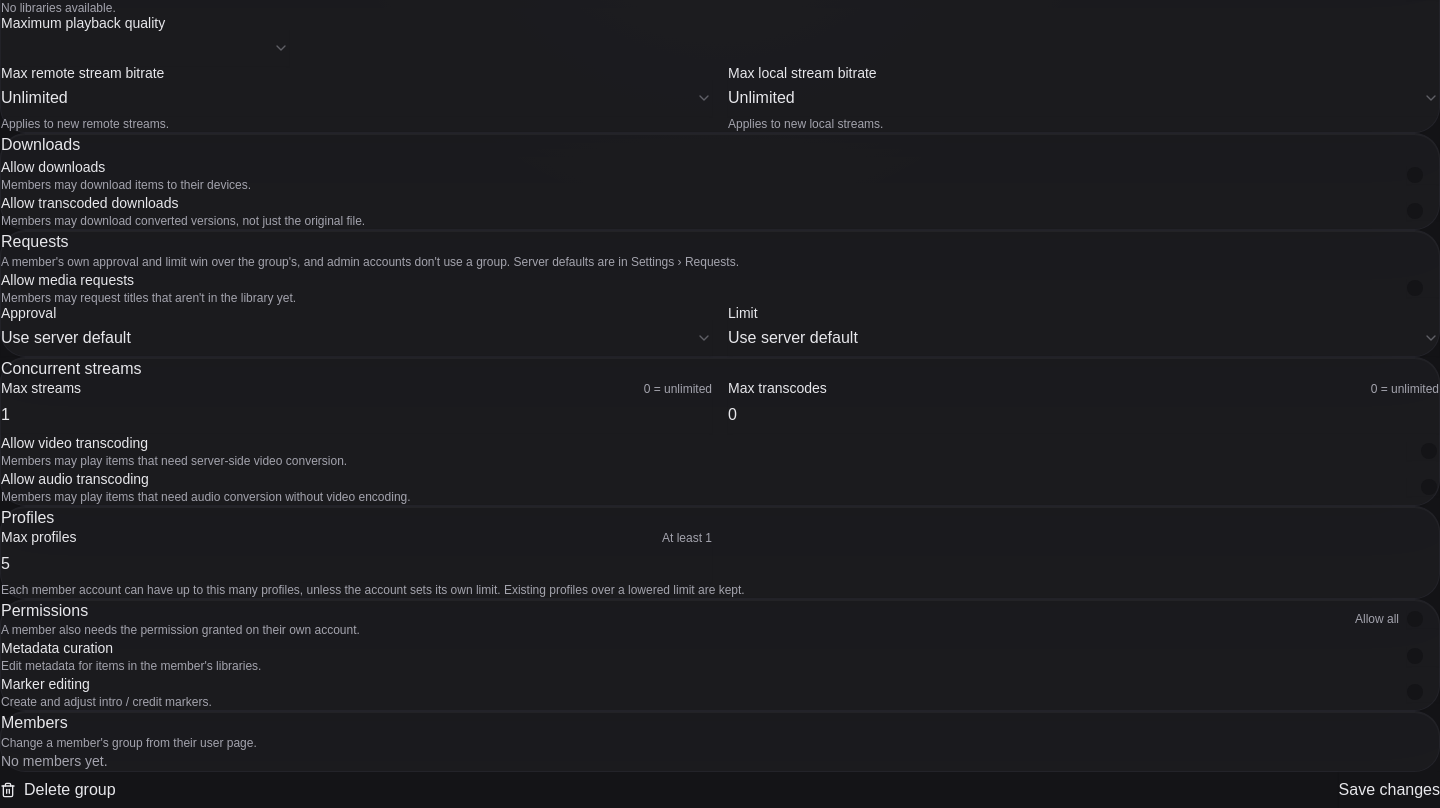
Test: AdminAccessGroups › keeps the move warning when the cached member count is zero
(page scrolled)
Click the button "Delete group": (58, 790) [0,772,116,807]
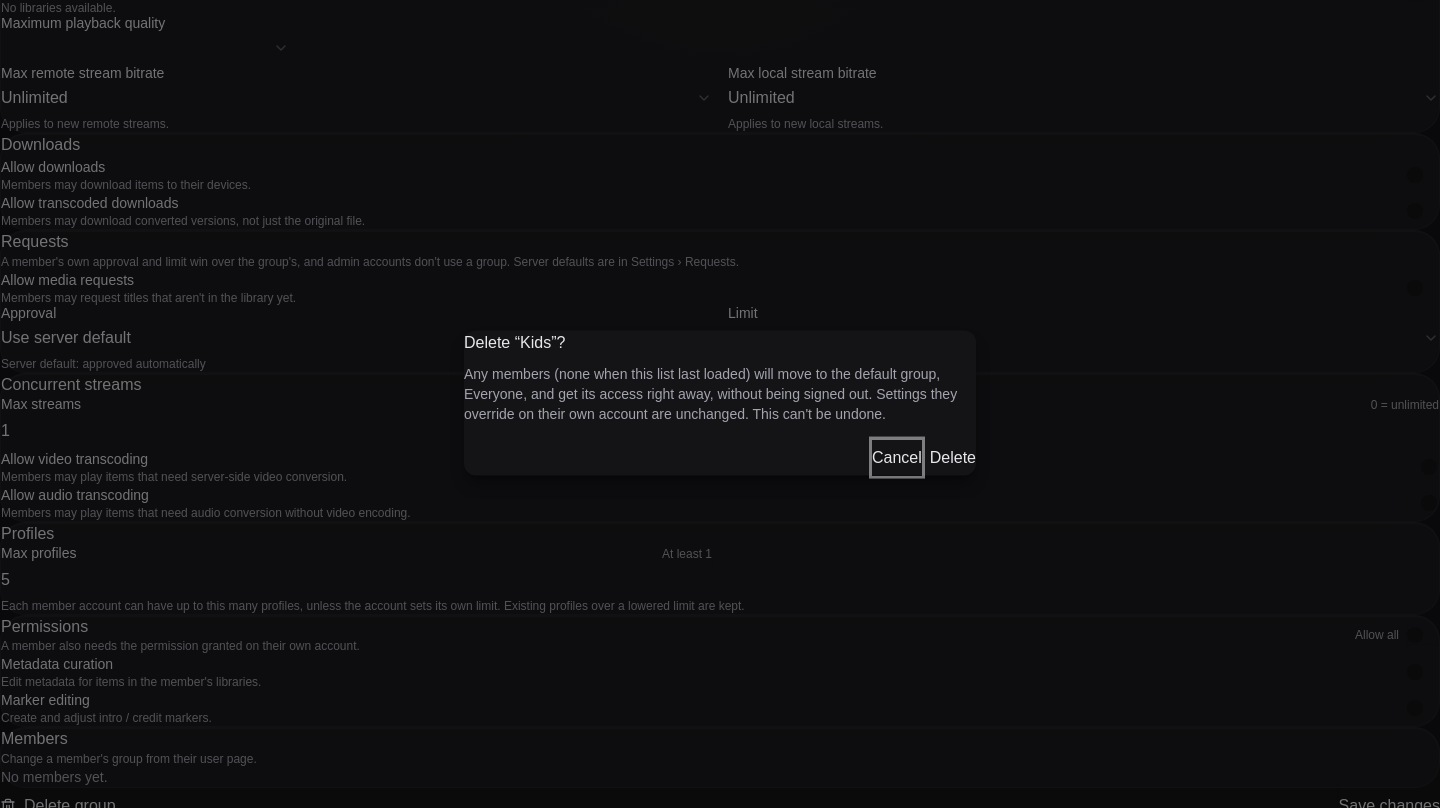
expect the dialog does not show "This group has no members": met, box [464,331,976,476]
expect the dialog shows "Any members (none when this list last loaded) will move to the default group, Everyone, and get its access right away, without being signed out": met, box [464,365,957,421]
